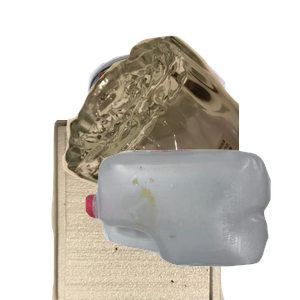glass: (60, 33, 300, 213)
metal: (62, 47, 300, 227)
plastic: (83, 147, 300, 300)
trash: (49, 120, 269, 300)
